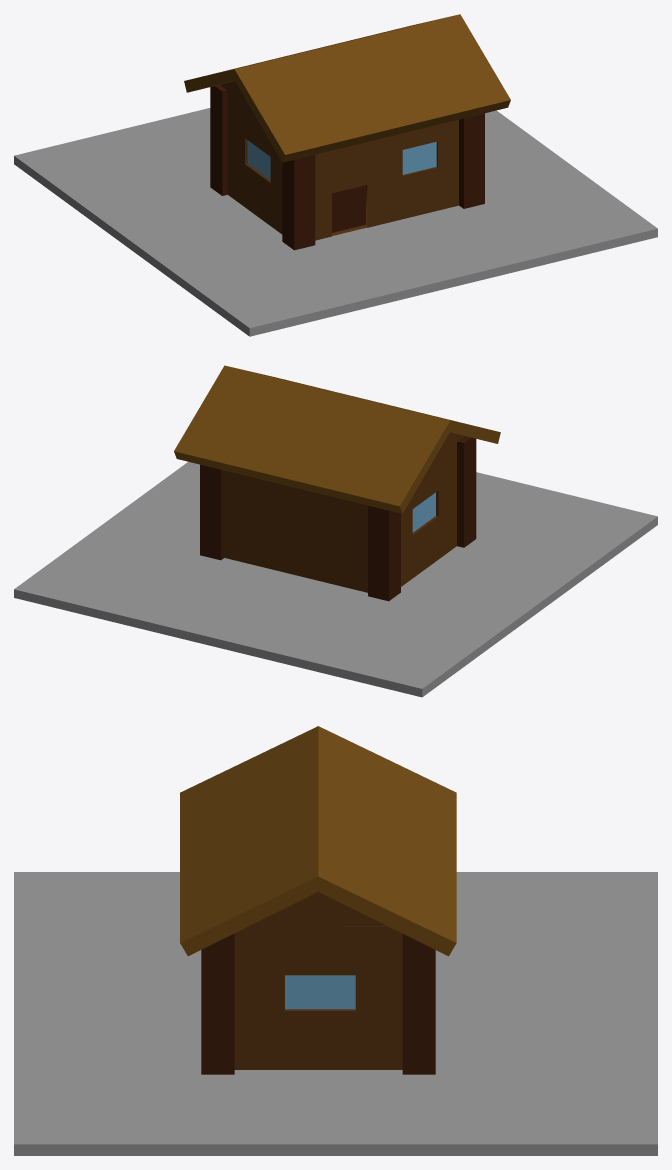
Rendered from Dom I.FBX.
3 renders of one model, top to bottom at view 1: azimuth 30°, elevation 25°; view 2: azimuth 150°, elevation 25°; view 3: azimuth 270°, elevation 25°, orthographic. The views are drawn at different scales.
Parts seen in each view (by area): view 1: Plane001, Prism001, Box027, Box028, Box029, Box031, Box032, Box033; view 2: Plane001, Prism001, Box027, Box031, Box030, Box028, Box032; view 3: Plane001, Prism001, Box027, Box029, Box030, Prism002, Box032.
Part boxes in pixels (box(x1,y1,x2,y2)): Plane001: box(14, 108, 657, 336); Prism001: box(184, 14, 510, 162); Box027: box(227, 91, 458, 240); Box028: box(282, 155, 315, 250); Box029: box(459, 113, 484, 208); Box031: box(210, 84, 227, 195); Box032: box(247, 140, 436, 179); Box033: box(332, 185, 365, 232); Plane001: box(14, 462, 657, 697); Prism001: box(174, 365, 500, 513); Box027: box(224, 442, 456, 592); Box031: box(368, 505, 400, 601); Box030: box(200, 464, 224, 560); Box028: box(457, 436, 476, 547); Box032: box(412, 492, 435, 532); Plane001: box(14, 872, 657, 1155); Prism001: box(180, 726, 456, 956); Box027: box(234, 926, 402, 1069); Box029: box(201, 933, 234, 1074); Box030: box(402, 934, 435, 1074); Prism002: box(248, 891, 387, 926); Box032: box(285, 975, 355, 1009).
Size of the model in its own units: 1 by 0.3823 by 1.
